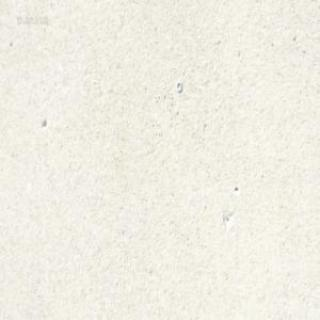Washertrack_idkeyframe: (175, 81, 182, 92)
